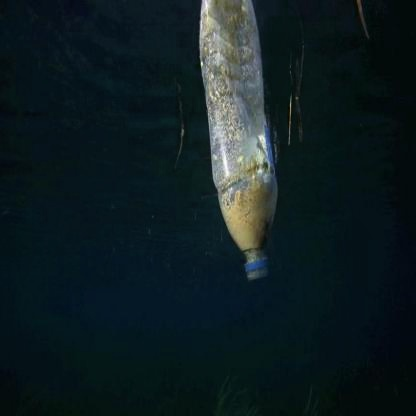pbottle: (193, 1, 288, 288)
